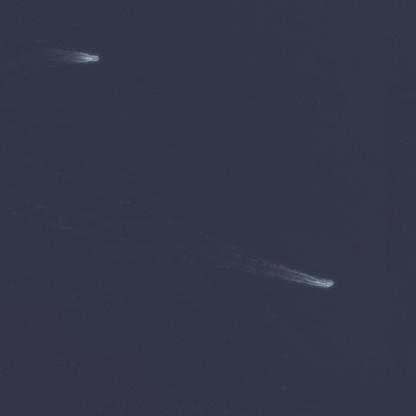ship: (318, 271, 338, 296), (86, 48, 104, 65)
